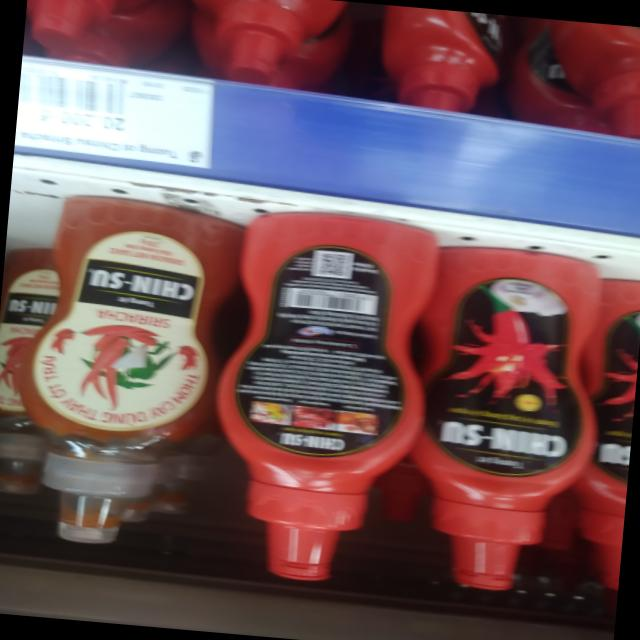tuong ot chinsu: (202, 199, 438, 597), (400, 237, 609, 603)
